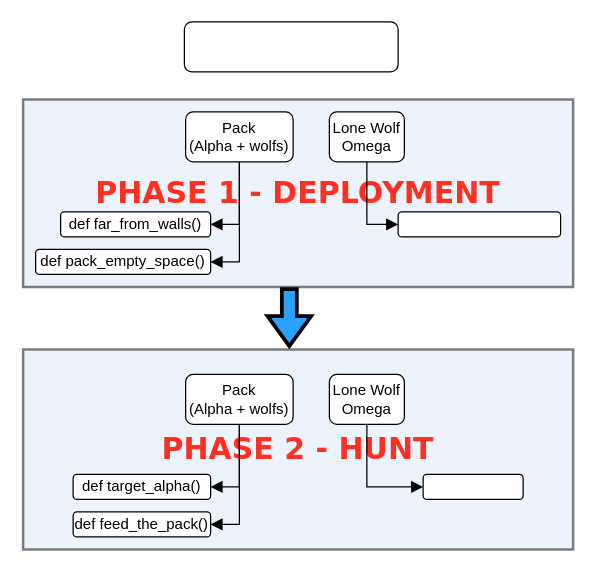
Image size: 595x573. Some labels were removed from this diagram. Each missing label, with the centre of its shape:
def away from_pack(): the point at 479,224
def pacifeed(): the point at 472,486
Smart A.I. Group 20: the point at 290,46
